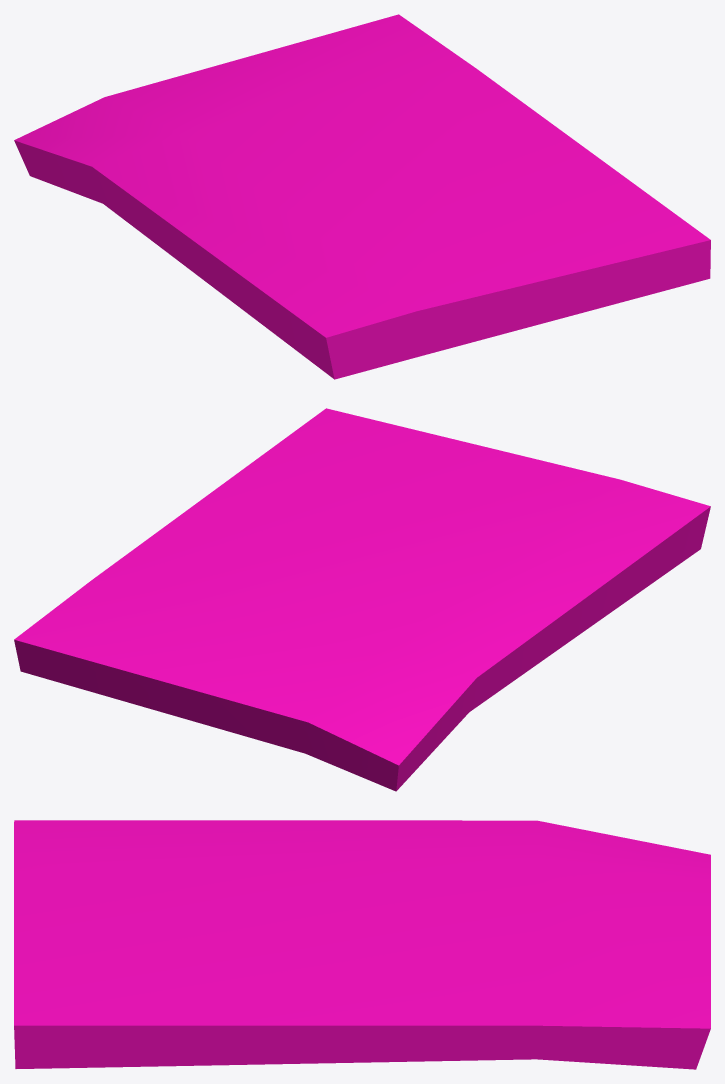
The model's file is study_magazine_3_meshCollider.fbx.
The picture shows the model from 3 angles, top to bottom: view 1: azimuth 30°, elevation 25°; view 2: azimuth 150°, elevation 25°; view 3: azimuth 270°, elevation 25°; orthographic projection. The views are drawn at different scales.
Parts seen in each view (by area): view 1: study_magazine_3_meshCollider; view 2: study_magazine_3_meshCollider; view 3: study_magazine_3_meshCollider.
Boxes of the visible parts, bbox=[...] form: study_magazine_3_meshCollider: bbox=[14, 14, 710, 379]; study_magazine_3_meshCollider: bbox=[14, 408, 710, 791]; study_magazine_3_meshCollider: bbox=[14, 820, 710, 1069].
Size of the model in its own units: 15.02 by 2.75 by 21.11.
